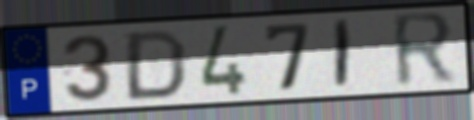3: (59, 32, 114, 104)
4: (197, 22, 251, 99)
7: (262, 21, 316, 94)
D: (122, 27, 190, 102)
I: (332, 17, 355, 92)
R: (389, 8, 459, 92)
